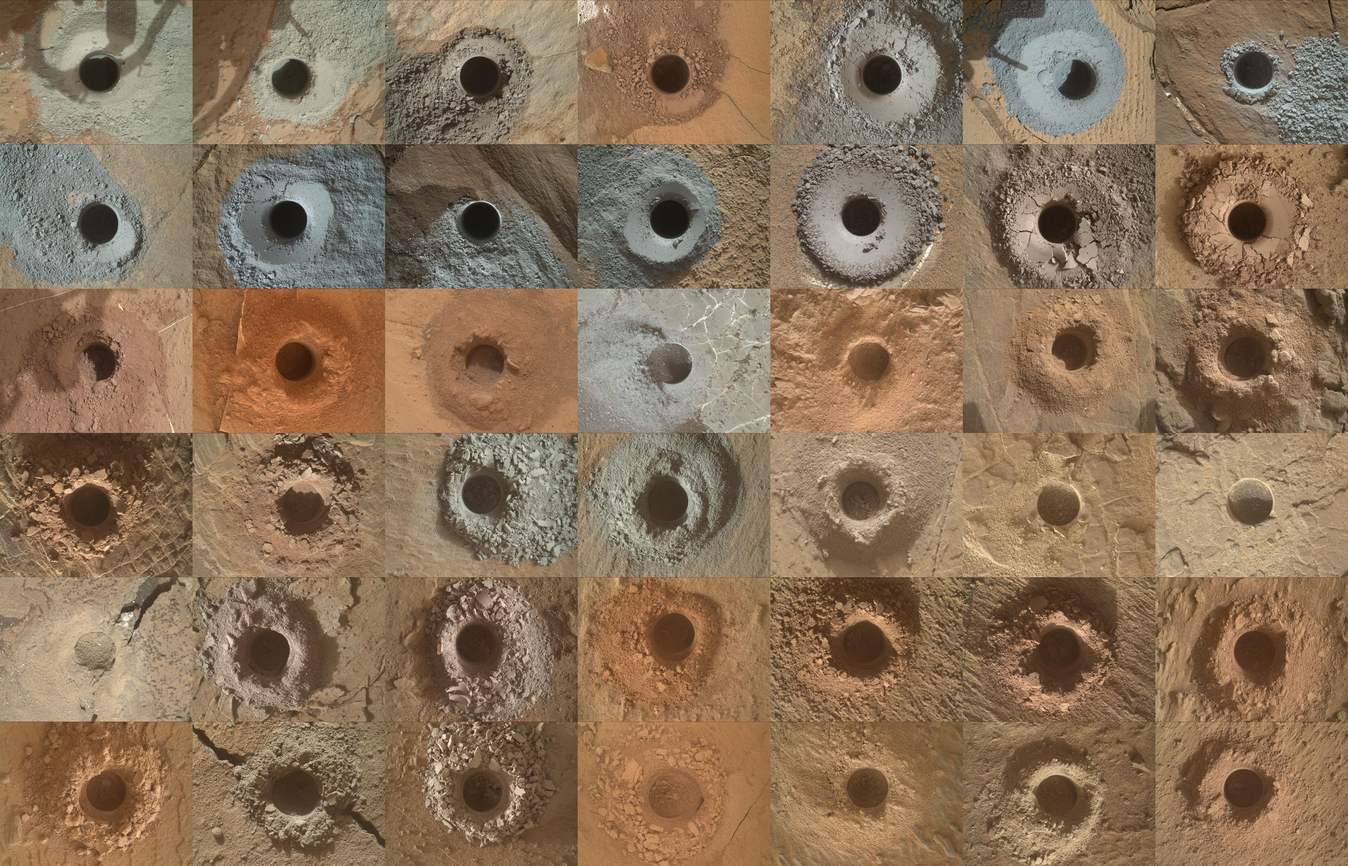rock: (193, 722, 390, 861), (999, 737, 1099, 798), (1174, 728, 1243, 812), (79, 768, 141, 836), (1234, 620, 1287, 696), (1033, 775, 1095, 837), (644, 605, 695, 678), (1224, 768, 1278, 825), (1103, 677, 1155, 725), (843, 768, 888, 817), (1119, 795, 1155, 833), (979, 689, 1020, 722), (934, 830, 968, 860), (649, 783, 677, 818), (945, 694, 978, 722)
